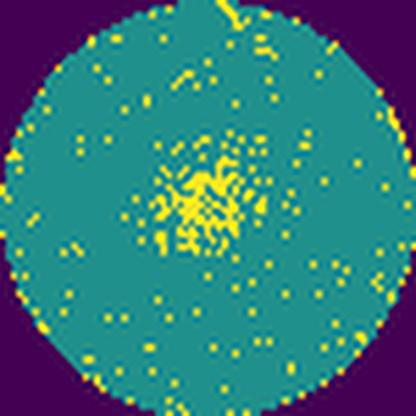Center: (153, 157, 254, 259)
